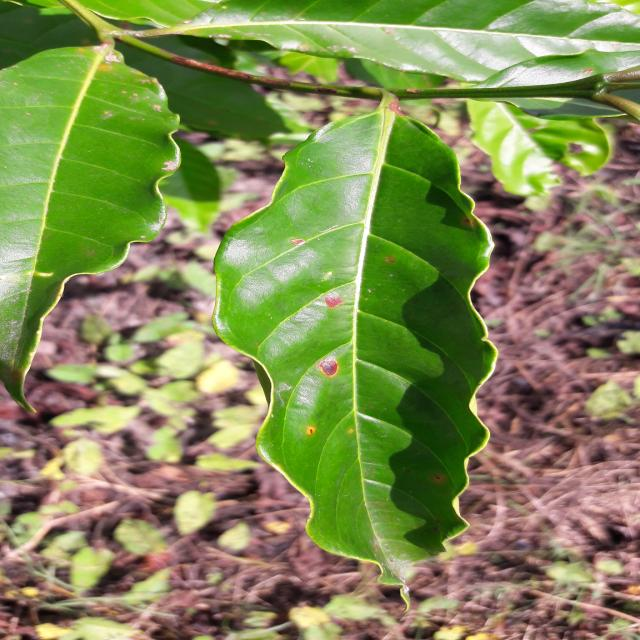Plaga-AranaRoja: (212, 108, 498, 574)
